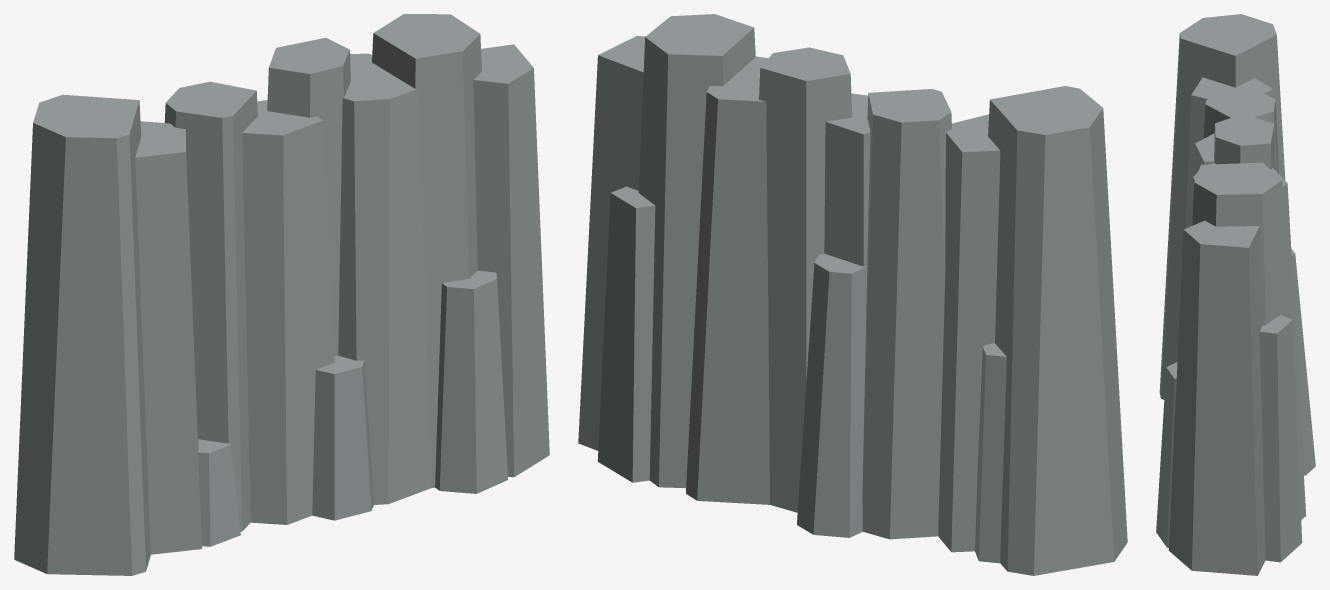
File: NHP_Rock_Wall_Curved_A1_01.fbx
3 renders of one model, left to right at view 1: azimuth 30°, elevation 25°; view 2: azimuth 150°, elevation 25°; view 3: azimuth 270°, elevation 25°, orthographic. The views are drawn at different scales.
Visible parts, largest first — view 1: NHP_Rock_Wall_Curved_A1_01; view 2: NHP_Rock_Wall_Curved_A1_01; view 3: NHP_Rock_Wall_Curved_A1_01.
Boxes of the visible parts, x1=… form: NHP_Rock_Wall_Curved_A1_01: x1=14, y1=14, x2=549, y2=575; NHP_Rock_Wall_Curved_A1_01: x1=578, y1=14, x2=1127, y2=575; NHP_Rock_Wall_Curved_A1_01: x1=1156, y1=14, x2=1315, y2=575.
Bounding box in the file's own units: 15.83 × 12.47 × 5.04.
